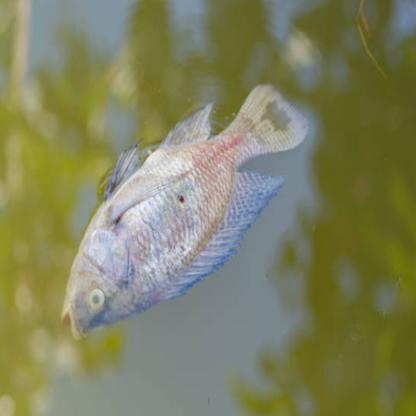deceased fish: (51, 82, 309, 343)
